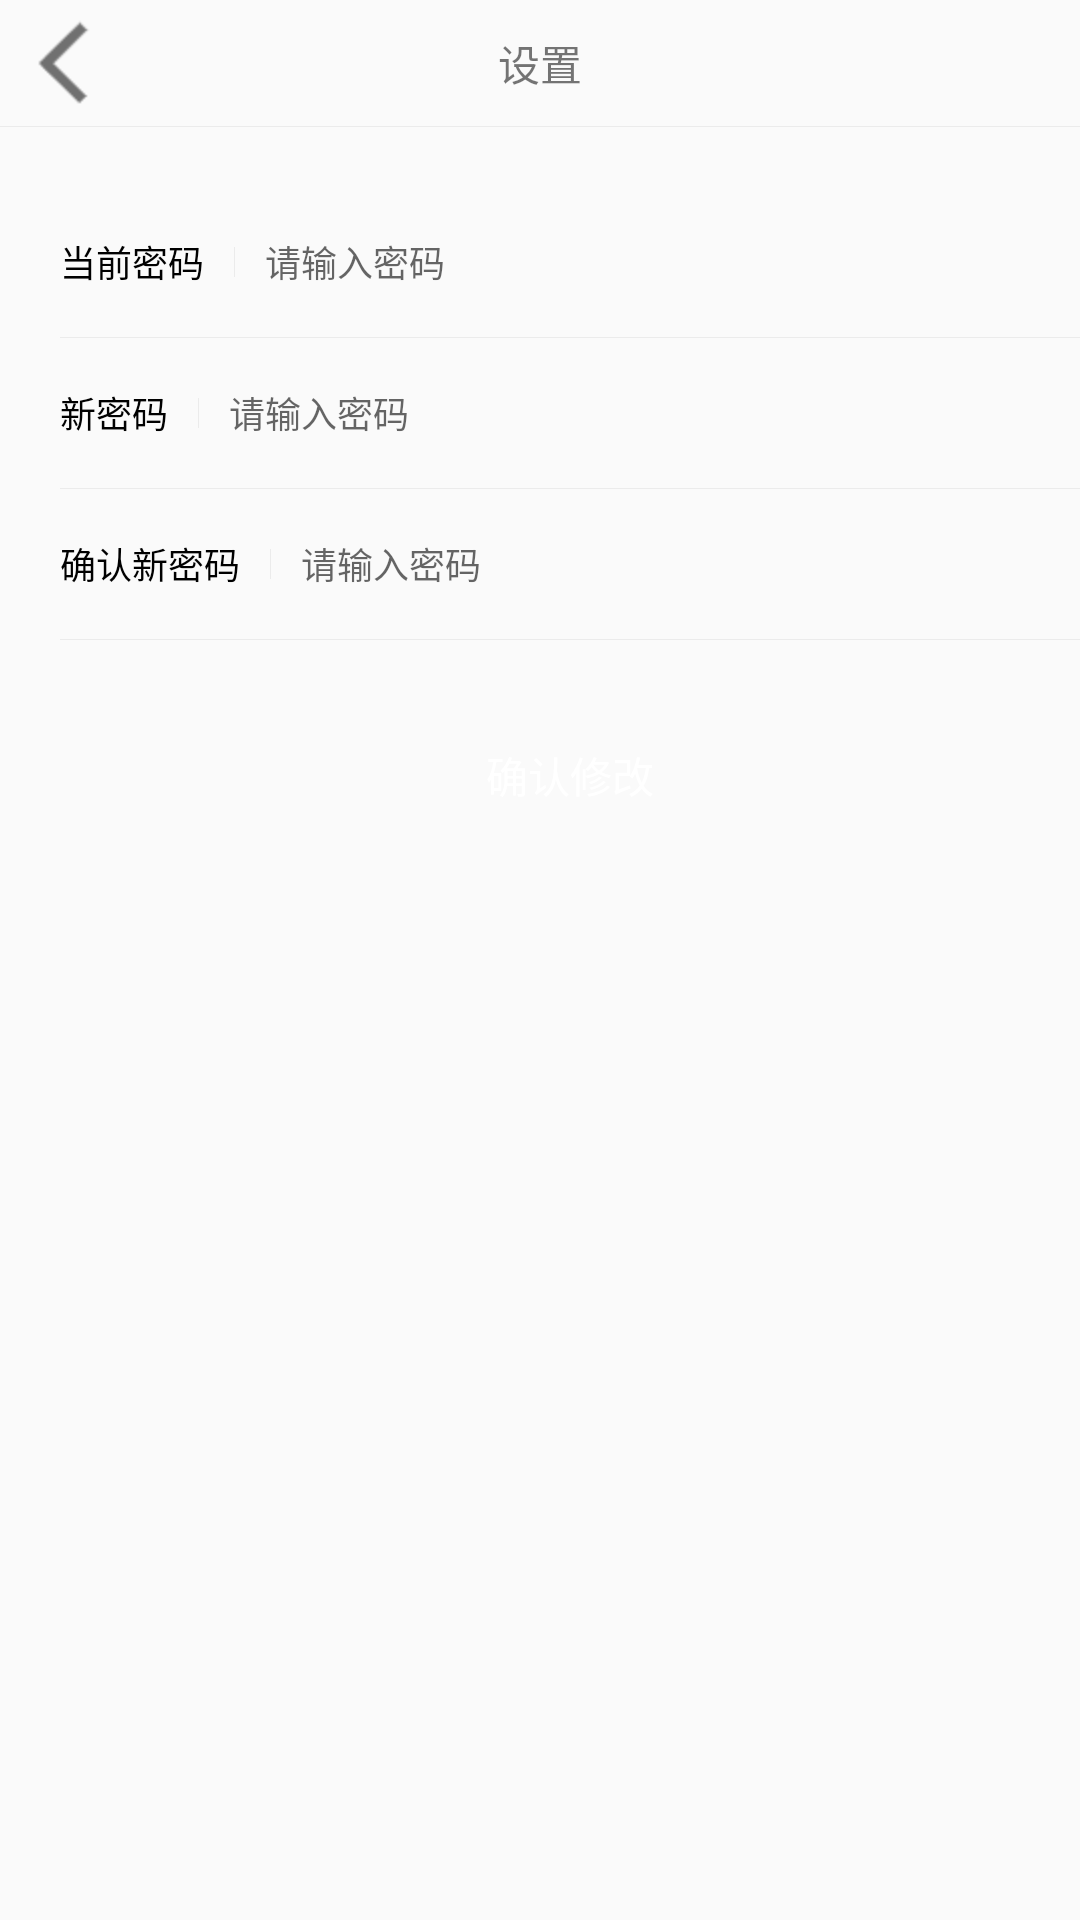

Screen size 1080x1920. Icon name, then its box in pixels as {"x1": x1, "y1": y1, "x2": x2, "y2": y2}:
back: {"x1": 39, "y1": 22, "x2": 88, "y2": 103}
